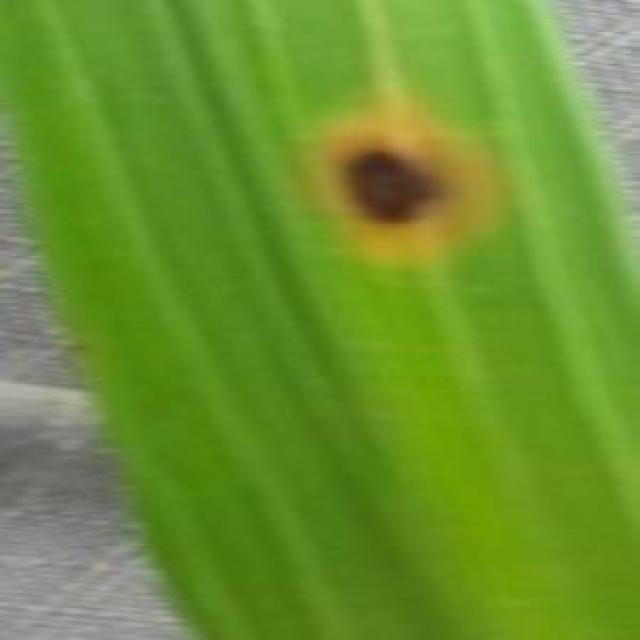Brown_Spot: (306, 103, 491, 259)
